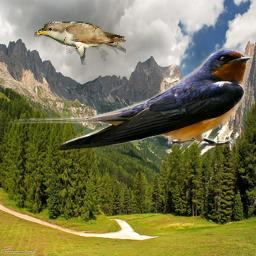Cuckoo: (34, 21, 126, 65)
Swallow: (8, 46, 252, 151)
